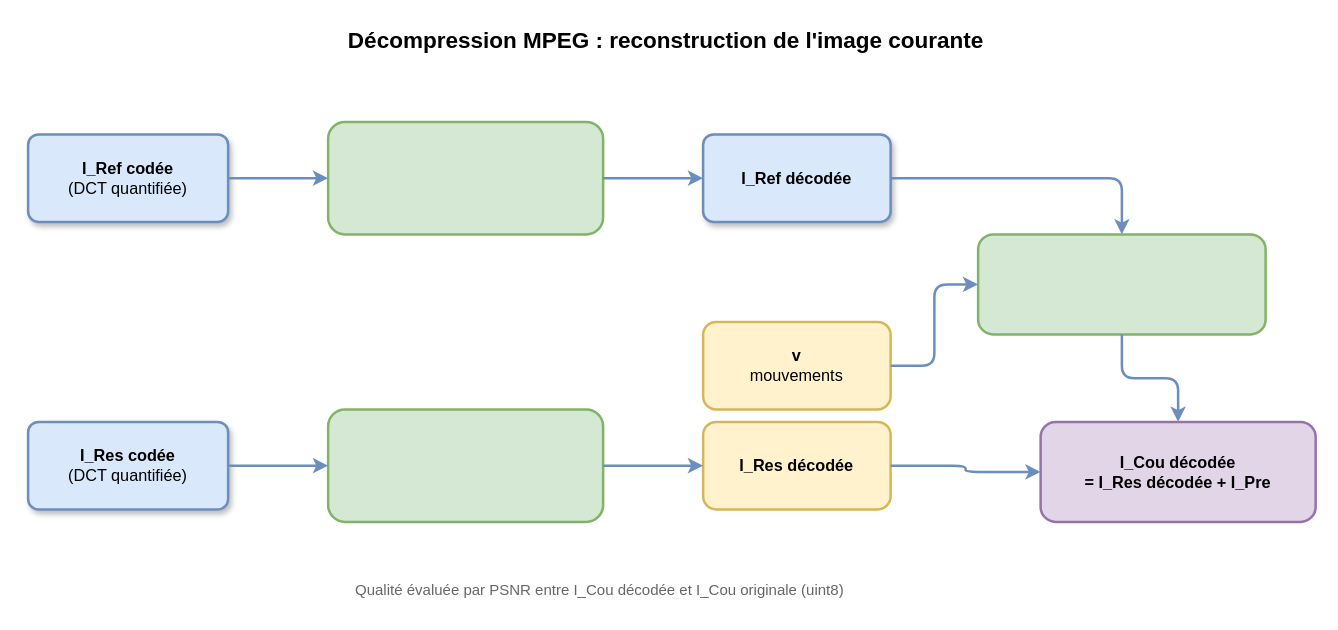
The diagram is 1338 pixels wide and 630 high, and some of its shapes have lost their labels. Each missing label, with the centre of its shape:
"Décompression JPEG canal Résidu" belongs at (465,465).
"Décompression JPEG quantif. inverse + IDCT canal Luminance" belongs at (465,177).
"Prédiction I_Pre depuis I_Ref décodée + v" belongs at (1121,283).
